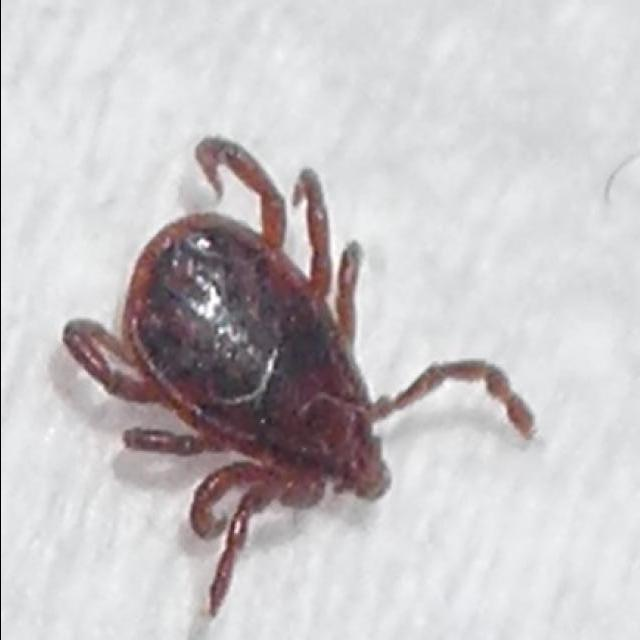Rhipicephalus Sanguineus-M: (59, 136, 534, 618)
